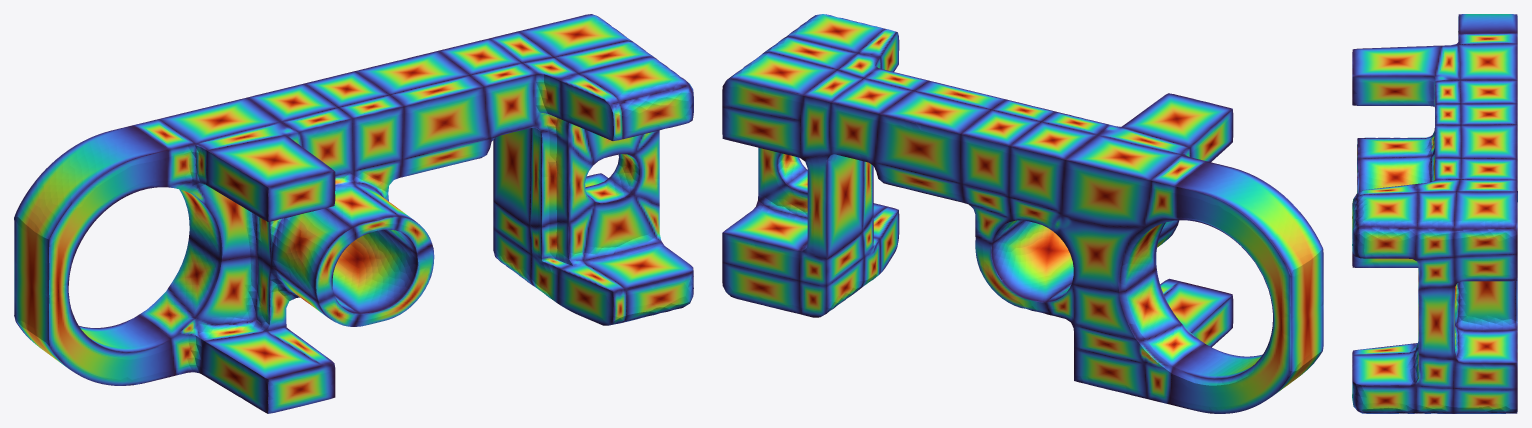
The model's file is gen2.glb.
The picture shows the model from 3 angles, left to right: view 1: azimuth 30°, elevation 25°; view 2: azimuth 150°, elevation 25°; view 3: azimuth 270°, elevation 25°; orthographic projection. The views are drawn at different scales.
Visible parts, largest first — view 1: Node; view 2: Node; view 3: Node.
Part boxes in pixels (x1,y1,x2,y2): Node: [14, 14, 693, 413]; Node: [722, 14, 1323, 413]; Node: [1352, 14, 1517, 413].
Size of the model in its own units: 34.6 by 12.8 by 10.
Materials: 1 (1 with a texture image).
